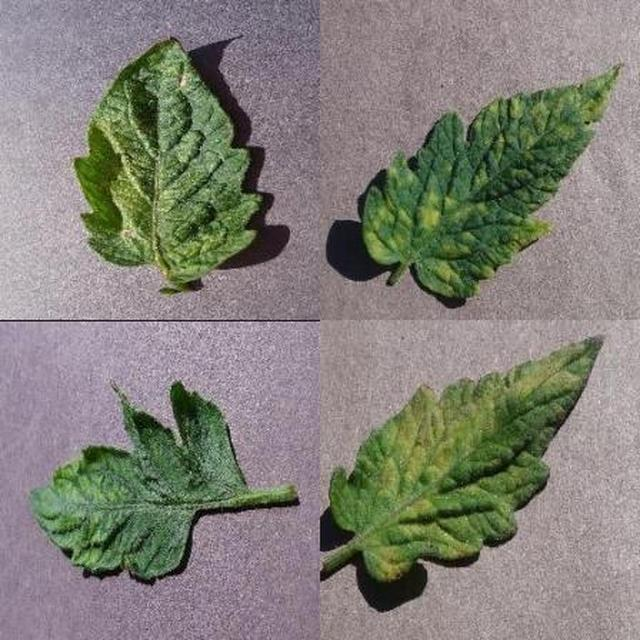Spider Mites Leaf: (191, 229, 640, 640)
